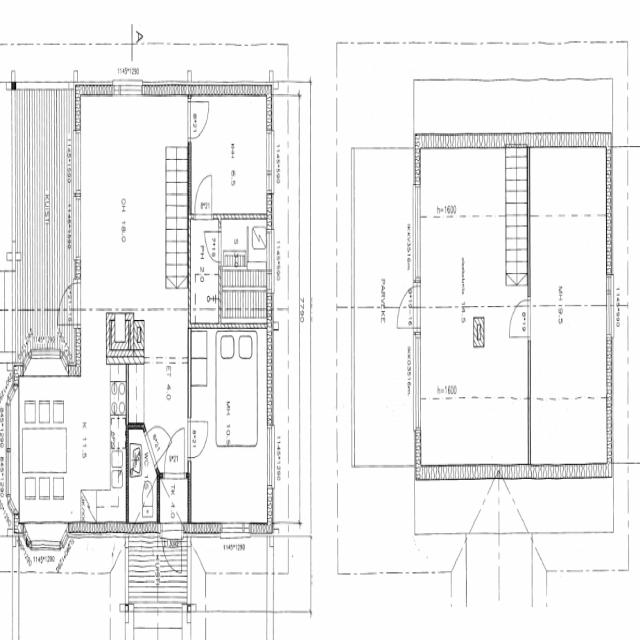door: (145, 412, 172, 466), (52, 282, 80, 328), (392, 283, 420, 329), (161, 523, 183, 580), (163, 430, 184, 477), (508, 299, 530, 338), (187, 421, 209, 458), (187, 101, 209, 138), (194, 176, 212, 218), (203, 232, 220, 262)
